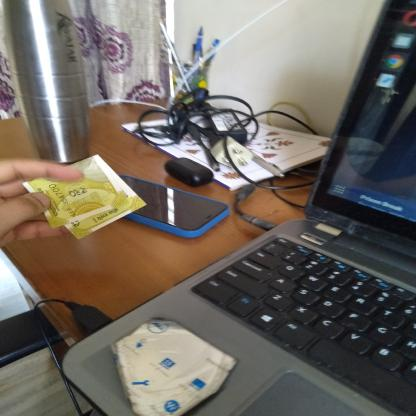New20Front: (26, 156, 124, 218)
